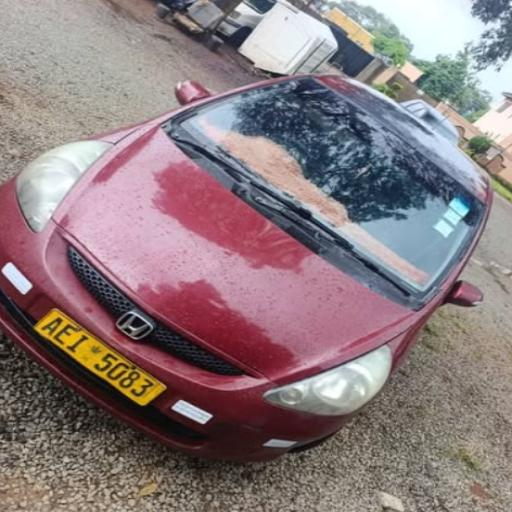number-plates: (19, 287, 172, 404)
